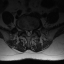CCS_normal: (27, 28, 30, 37)
LFS_severe_stenosis: (32, 27, 34, 33)
LLS_normal: (30, 28, 32, 35)
RFS_severe_stenosis: (23, 27, 25, 34)
RLS_stenosis: (25, 28, 27, 35)
